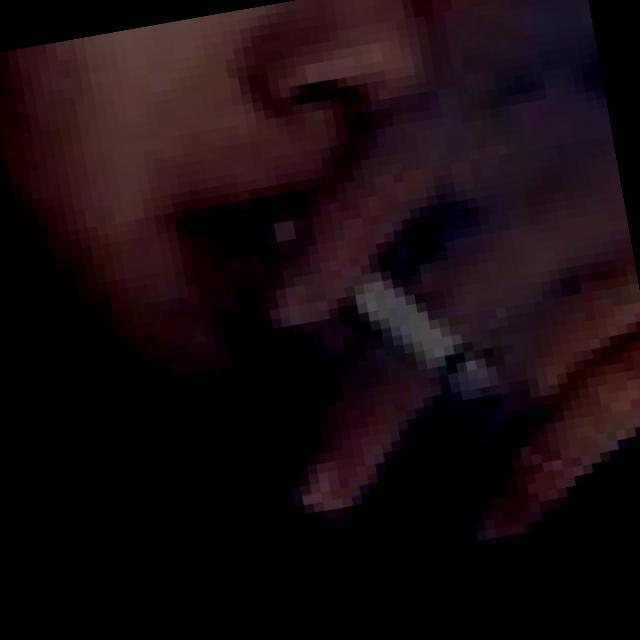cigarette: (246, 144, 532, 474)
